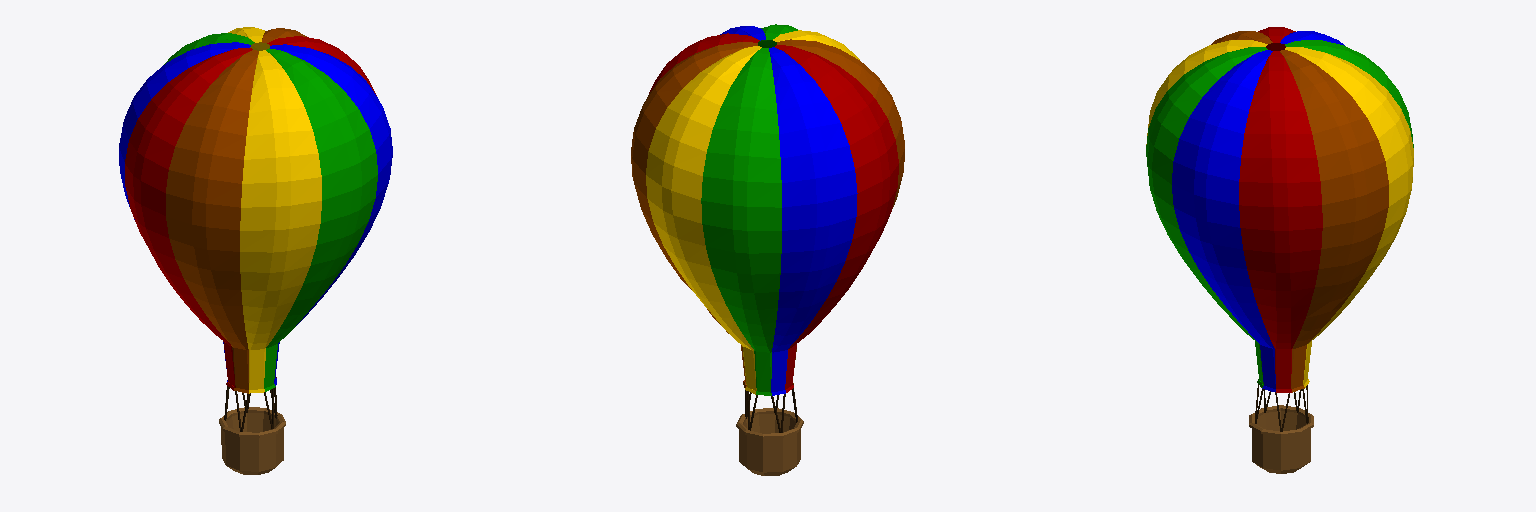
File: balloon_model2.obj
3 views of the same model, side by side, from view 1: azimuth 30°, elevation 25°; view 2: azimuth 150°, elevation 25°; view 3: azimuth 270°, elevation 25° (orthographic).
Parts seen in each view (by area): view 1: pSphere1, pCylinder1; view 2: pSphere1, pCylinder1; view 3: pSphere1, pCylinder1.
Boxes of the visible parts, x1=… form: pSphere1: x1=119, y1=27, x2=392, y2=393; pCylinder1: x1=219, y1=407, x2=285, y2=474; pSphere1: x1=631, y1=24, x2=904, y2=395; pCylinder1: x1=736, y1=408, x2=803, y2=475; pSphere1: x1=1146, y1=27, x2=1413, y2=392; pCylinder1: x1=1249, y1=405, x2=1313, y2=473.
Bounding box in the file's own units: 7.17 × 12.13 × 7.